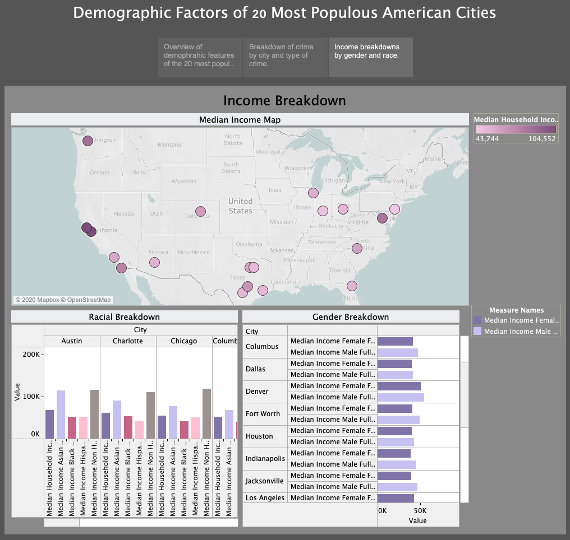

What the dashboard file says about the page in this screenshot:
{"tool":"tableau","page":{"name":"Income Breakdown","canvas":[1000,800],"ordinal":2},"visuals":[{"type":"title","box":[8,8,984,37]},{"type":"worksheet","title":"Median Income Map","mark":"Automatic","box":[8,45,824,351.6]},{"type":"legend","title":"Median Income Map","param":"[federated.1lptwtd0fqmw5812xszcj0w200qy].[sum:Median Household Income (copy)_734","box":[832,45,160,63]},{"type":"legend","title":"Gender Breakdown","param":"[federated.1lptwtd0fqmw5812xszcj0w200qy].[:Measure Names]","box":[832,391,160,60]},{"type":"worksheet","title":"Racial Breakdown","mark":"Automatic","cols":["City"],"box":[8,396.6,412,395.4]},{"type":"worksheet","title":"Gender Breakdown","mark":"Automatic","rows":["City"],"box":[420,396.6,412,395.4]}]}

Visuals, with their boxes on the page's 1000x800 design canvas (x1, y1, x2, y2). These are canvas units, not pixel positions in the 570x540 screenshot, which may show the page scaled, cropped or inside an application window:
title: 8/8/992/45
"Median Income Map" worksheet: 8/45/832/397
"Median Income Map" legend: 832/45/992/108
"Gender Breakdown" legend: 832/391/992/451
"Racial Breakdown" worksheet: 8/397/420/792
"Gender Breakdown" worksheet: 420/397/832/792
